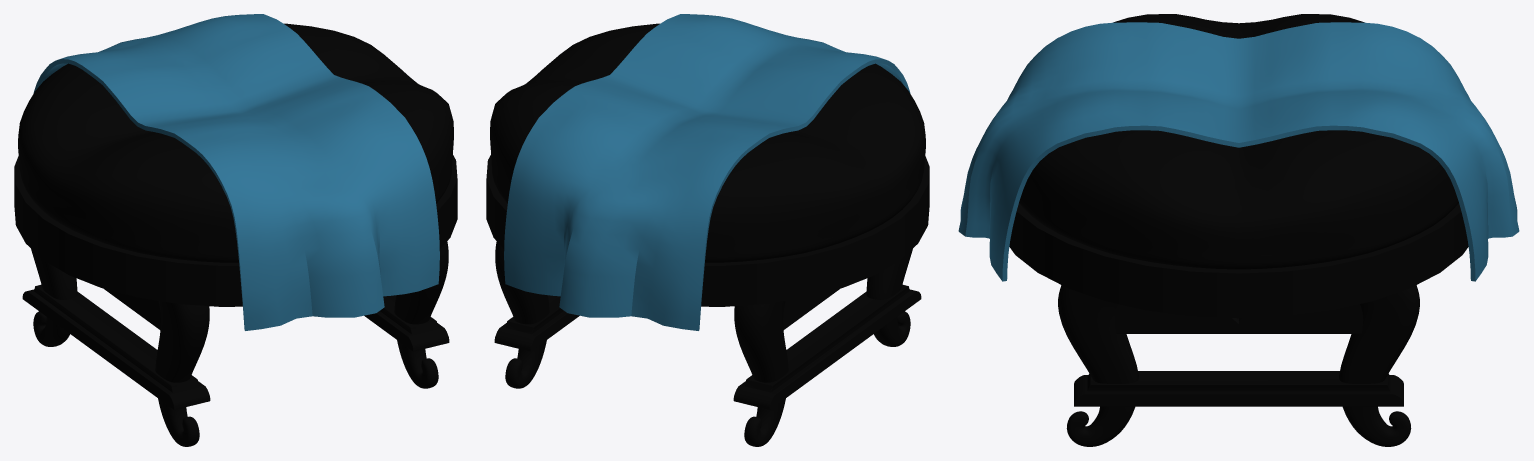
Rendered from (Prop)Wood-Chair_01.fbx.
3 renders of one model, left to right at view 1: azimuth 30°, elevation 25°; view 2: azimuth 150°, elevation 25°; view 3: azimuth 270°, elevation 25°, orthographic. The views are drawn at different scales.
Visible parts, largest first — view 1: Chair; view 2: Chair; view 3: Chair.
Part boxes in pixels (x1,y1,x2,y2): Chair: (14, 14, 457, 446); Chair: (486, 14, 929, 446); Chair: (958, 14, 1519, 446).
Size of the model in its own units: 64.13 by 45 by 74.33.
